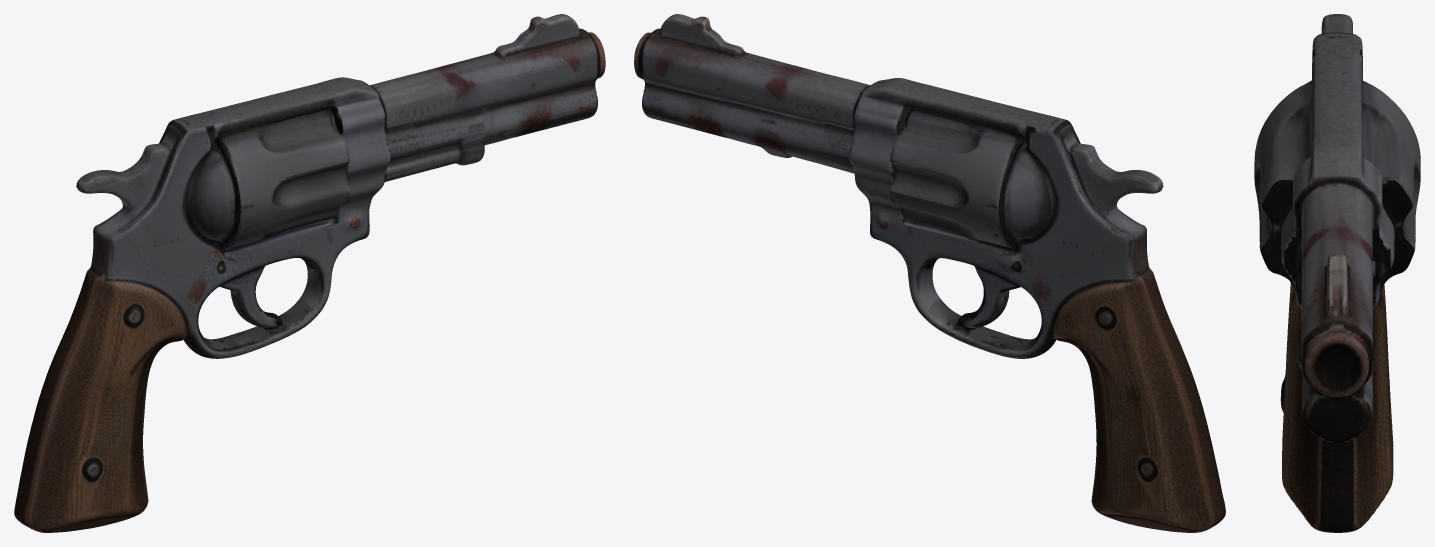
The model's file is catalog-weapon-28.glb.
3 renders of one model, left to right at view 1: azimuth 30°, elevation 25°; view 2: azimuth 150°, elevation 25°; view 3: azimuth 270°, elevation 25°, orthographic. The views are drawn at different scales.
Visible parts, largest first — view 1: tmp_mlu4nyf.ply; view 2: tmp_mlu4nyf.ply; view 3: tmp_mlu4nyf.ply.
Part boxes in pixels (box(x1,y1,x2,y2)): tmp_mlu4nyf.ply: box(14, 14, 605, 532); tmp_mlu4nyf.ply: box(634, 14, 1225, 532); tmp_mlu4nyf.ply: box(1254, 14, 1420, 532).
Bounding box in the file's own units: 1.96 × 1.28 × 0.3447.
Materials: 1 (1 with a texture image).
